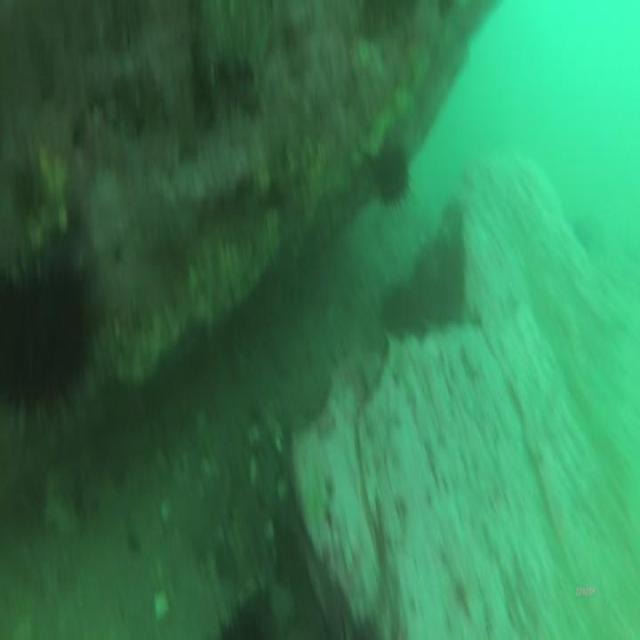echinus: (0, 240, 100, 429), (212, 580, 281, 640), (372, 139, 412, 210)
